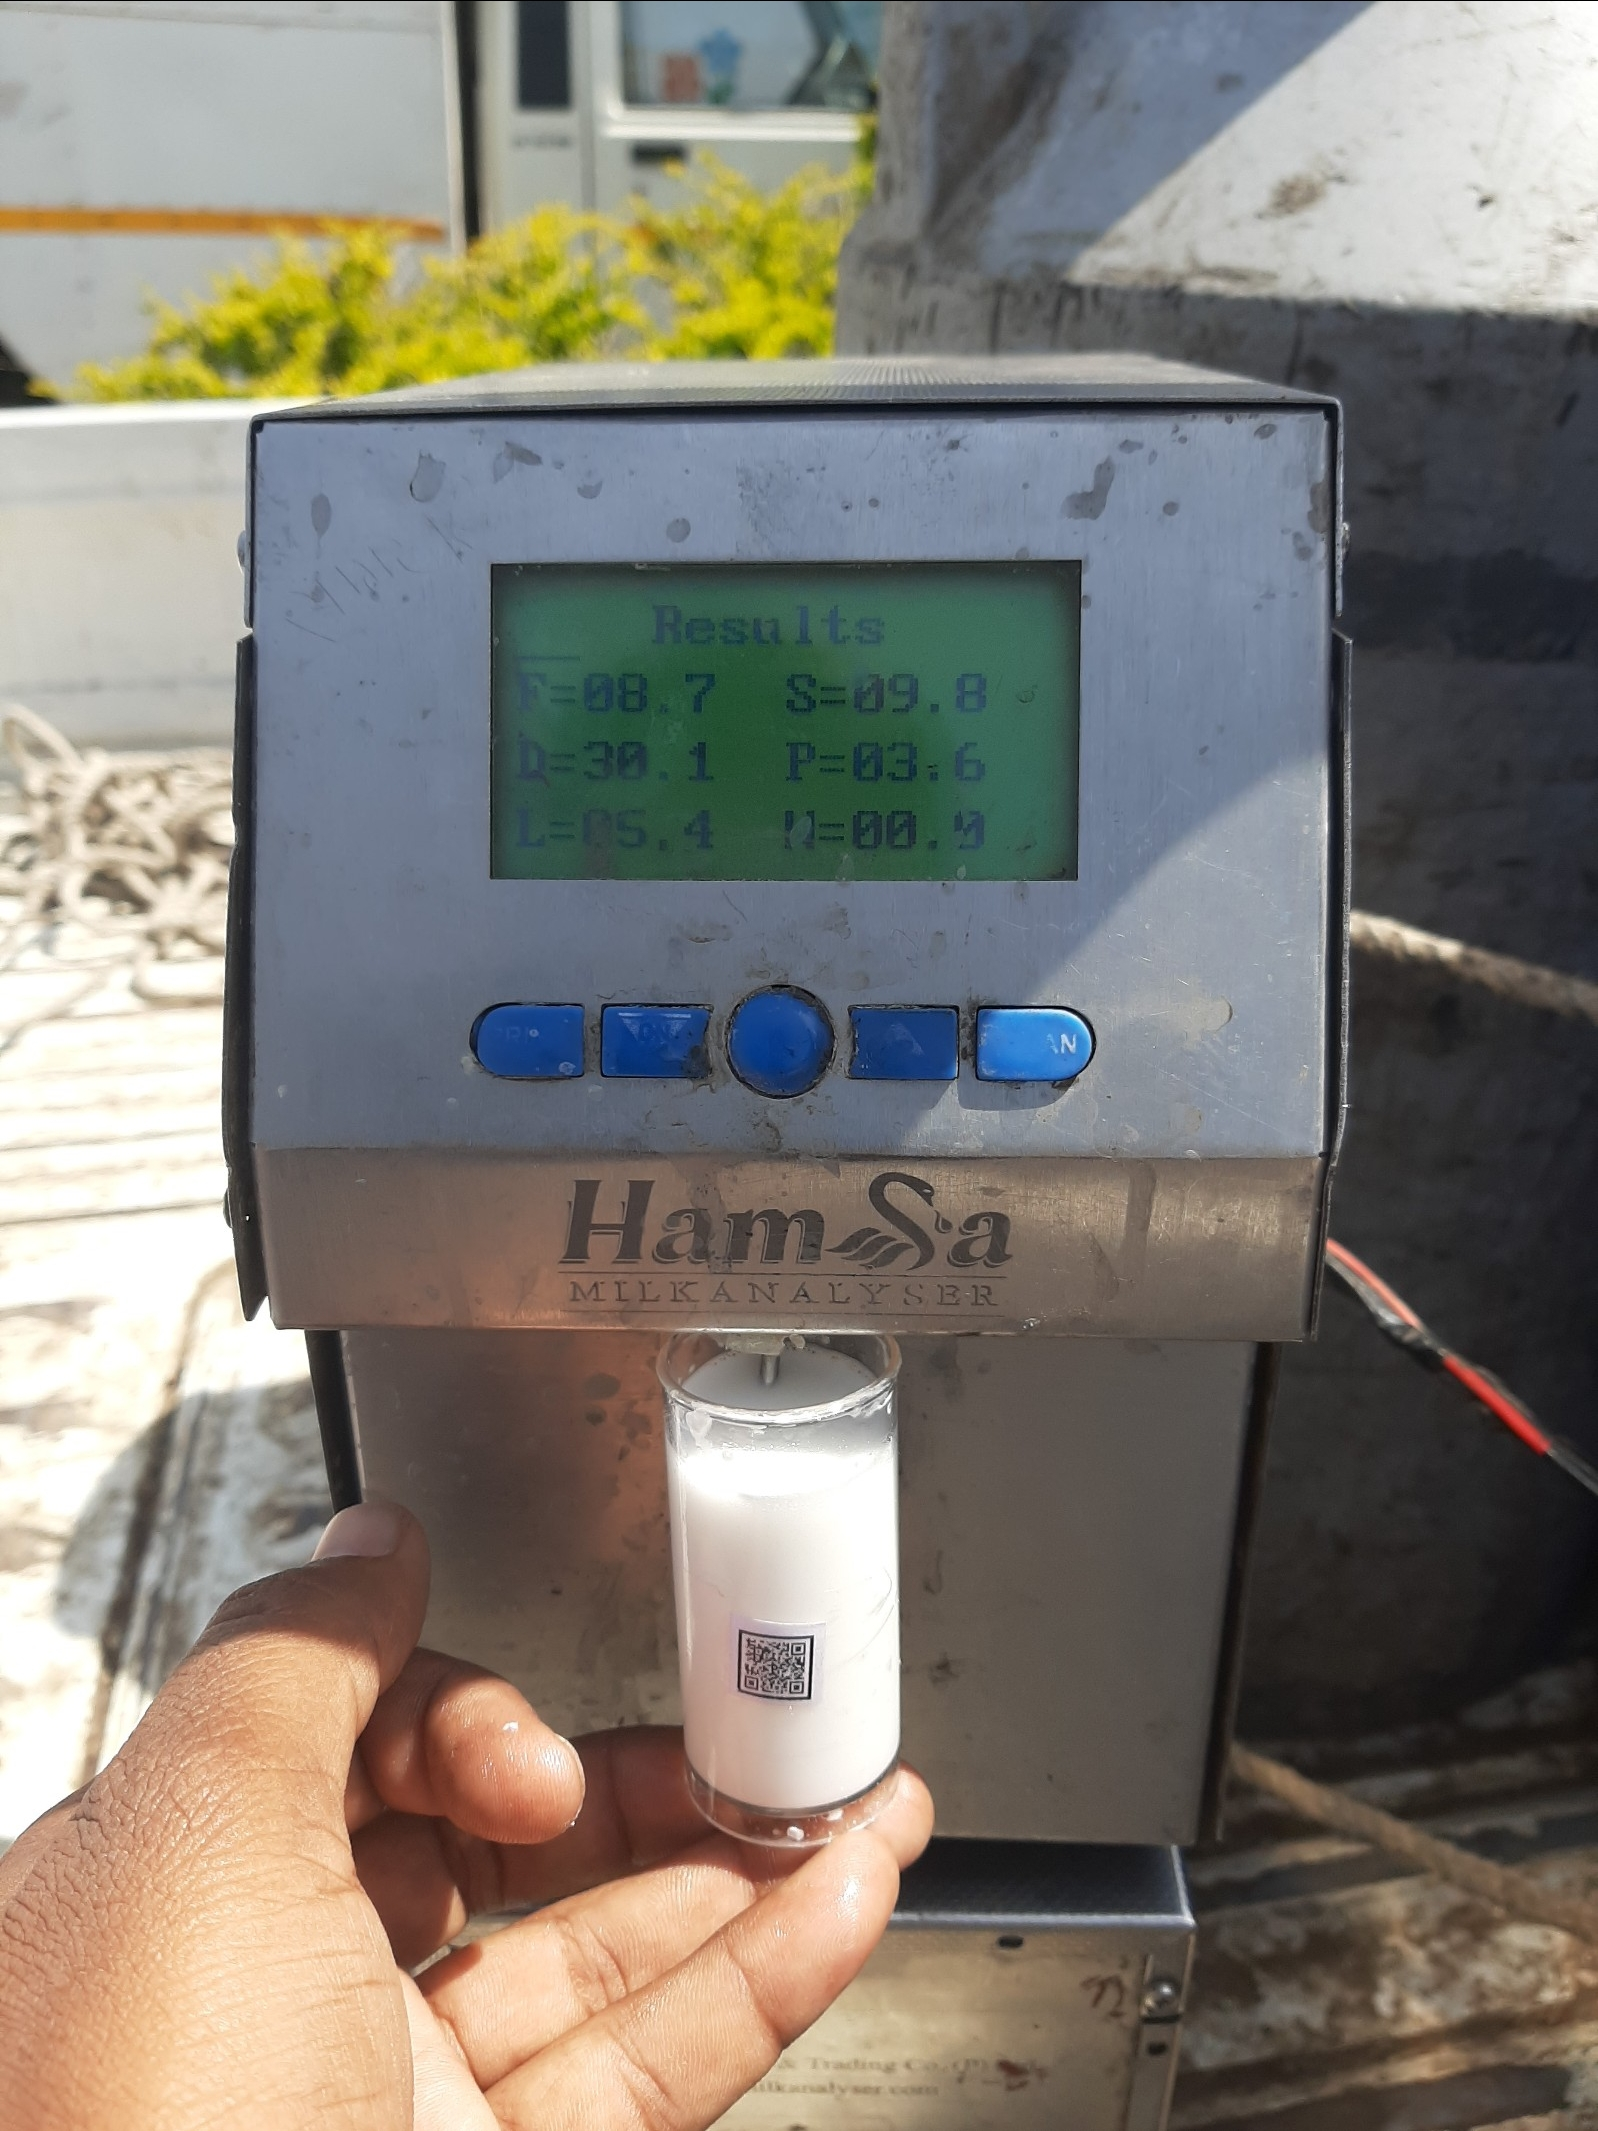lcd: (431, 520, 1130, 926)
qr: (707, 1623, 858, 1737)
